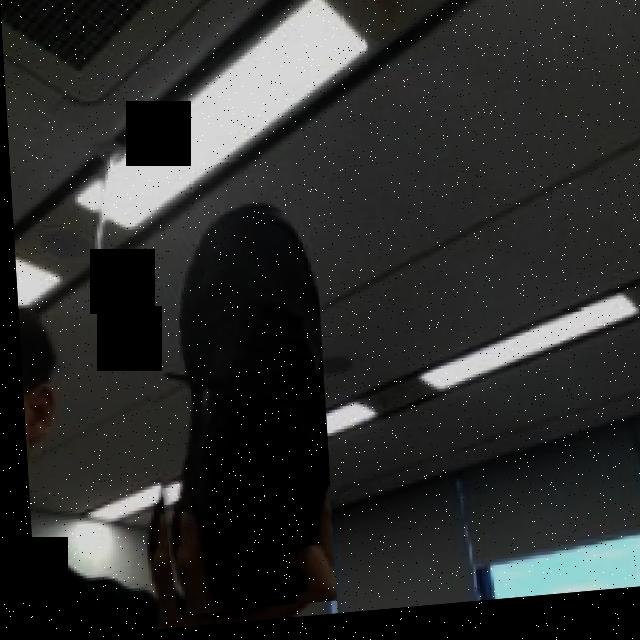shoe: (123, 195, 329, 620)
